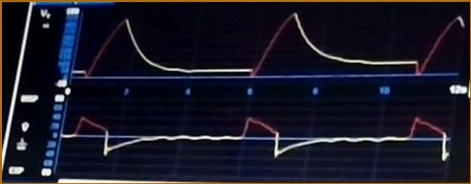Flow: (67, 109, 449, 173)
Leakage Volume: (79, 12, 465, 83)
